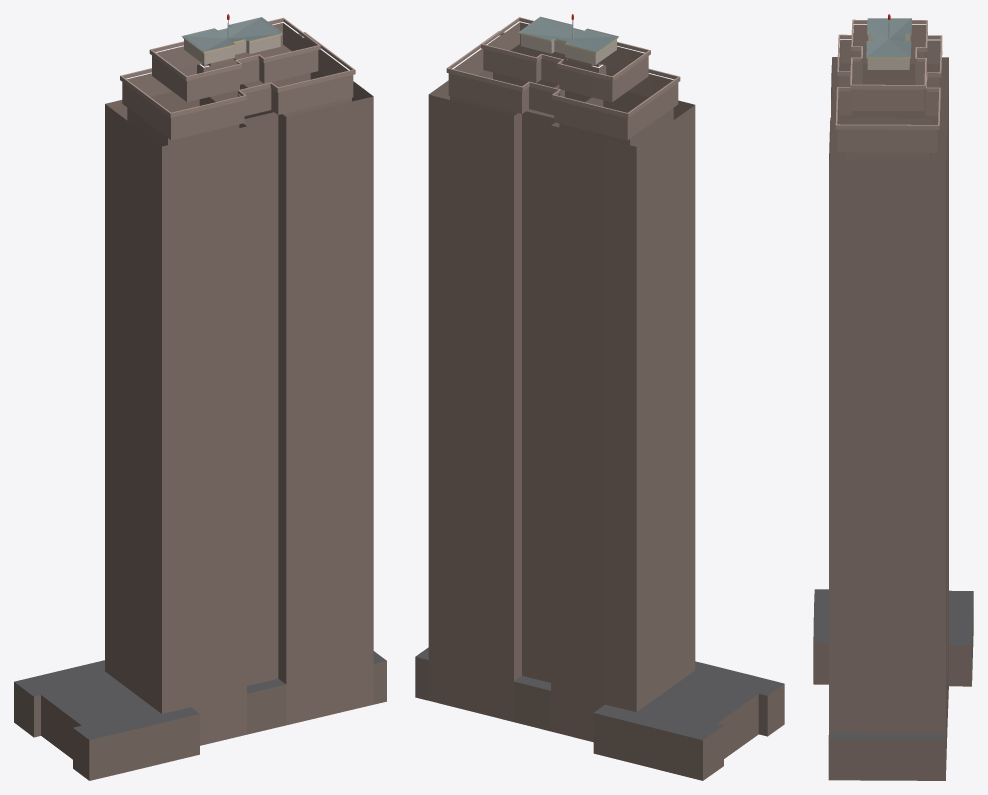
File: 191-peachtree-tower.glb
3 renders of one model, left to right at view 1: azimuth 30°, elevation 25°; view 2: azimuth 150°, elevation 25°; view 3: azimuth 270°, elevation 25°, orthographic.
Parts seen in each view (by area): view 1: lod0_bld_wall, lod0_bld_roof, lod0_lm_flood, lod1_lm_stone, lod0_lm_metal; view 2: lod0_bld_wall, lod1_lm_stone, lod0_lm_flood, lod0_bld_roof, lod0_lm_metal; view 3: lod0_bld_wall, lod0_lm_flood, lod0_bld_roof, lod1_lm_stone, lod0_lm_metal.
Part boxes in pixels (bbox=[...]): lod0_bld_wall: bbox=[14, 23, 386, 780]; lod0_bld_roof: bbox=[14, 651, 386, 739]; lod0_lm_flood: bbox=[120, 17, 355, 117]; lod1_lm_stone: bbox=[16, 23, 375, 728]; lod0_lm_metal: bbox=[181, 17, 282, 52]; lod0_bld_wall: bbox=[415, 22, 784, 780]; lod1_lm_stone: bbox=[518, 20, 772, 740]; lod0_lm_flood: bbox=[446, 17, 680, 117]; lod0_bld_roof: bbox=[415, 647, 784, 719]; lod0_lm_metal: bbox=[518, 16, 618, 52]; lod0_bld_wall: bbox=[813, 24, 973, 780]; lod0_lm_flood: bbox=[835, 19, 942, 129]; lod0_bld_roof: bbox=[813, 589, 973, 739]; lod1_lm_stone: bbox=[820, 20, 973, 739]; lod0_lm_metal: bbox=[866, 18, 911, 57].
Bounding box in the file's own units: 110 × 239 × 49.4.
